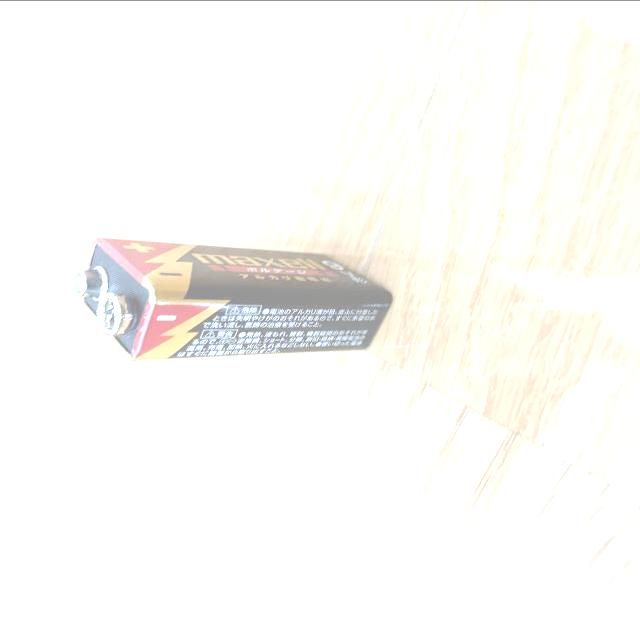9V: (74, 235, 391, 360)
